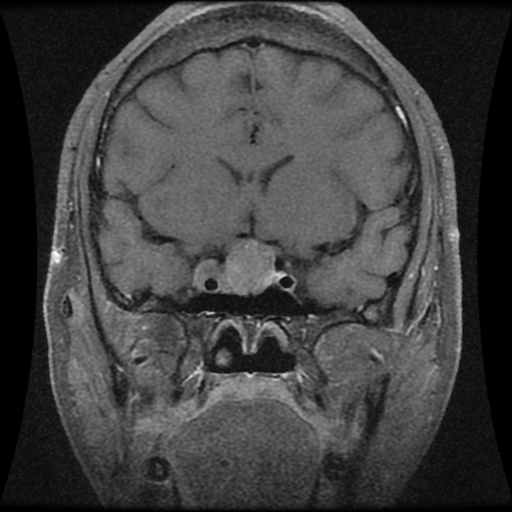pituitary: (221, 240, 275, 295)
